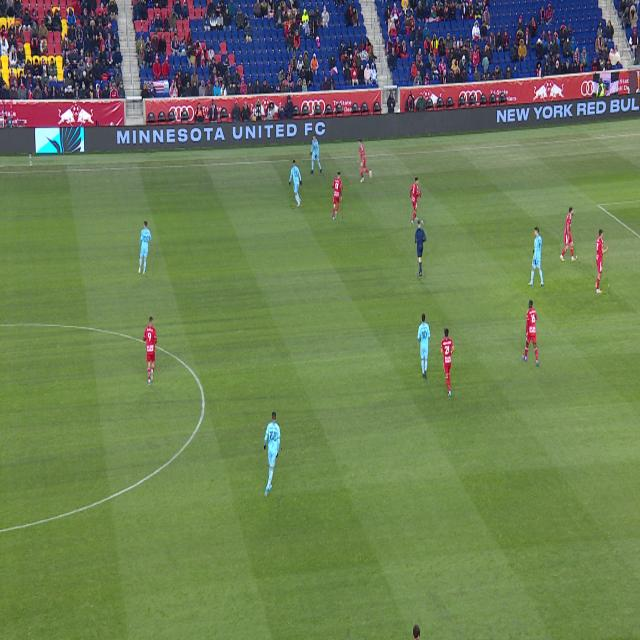player: (264, 412, 281, 497), (522, 300, 539, 366), (143, 316, 157, 385), (528, 227, 544, 286), (417, 313, 431, 379), (441, 328, 454, 397), (561, 207, 576, 261), (596, 229, 608, 293), (138, 222, 152, 276), (358, 139, 372, 183), (289, 161, 302, 207), (310, 134, 322, 174), (333, 172, 342, 221), (411, 177, 420, 225), (414, 626, 419, 639)
referee: (415, 220, 426, 279)
